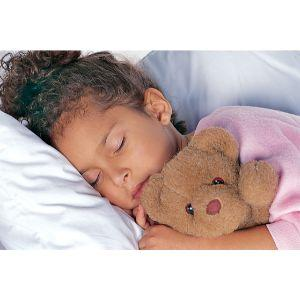sleep: (2, 48, 297, 248), (78, 116, 161, 204)
